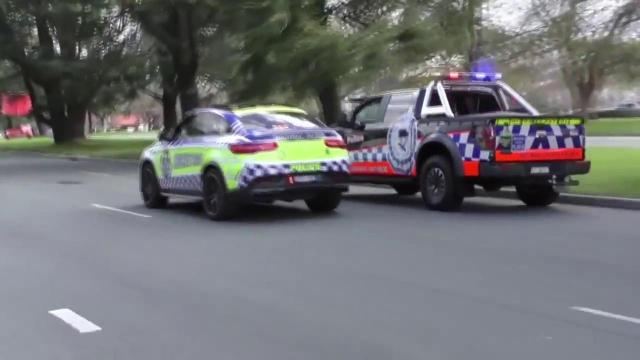police: (352, 72, 591, 210), (136, 99, 363, 216)
